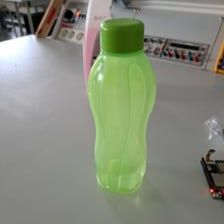bottle: (85, 15, 158, 194)
